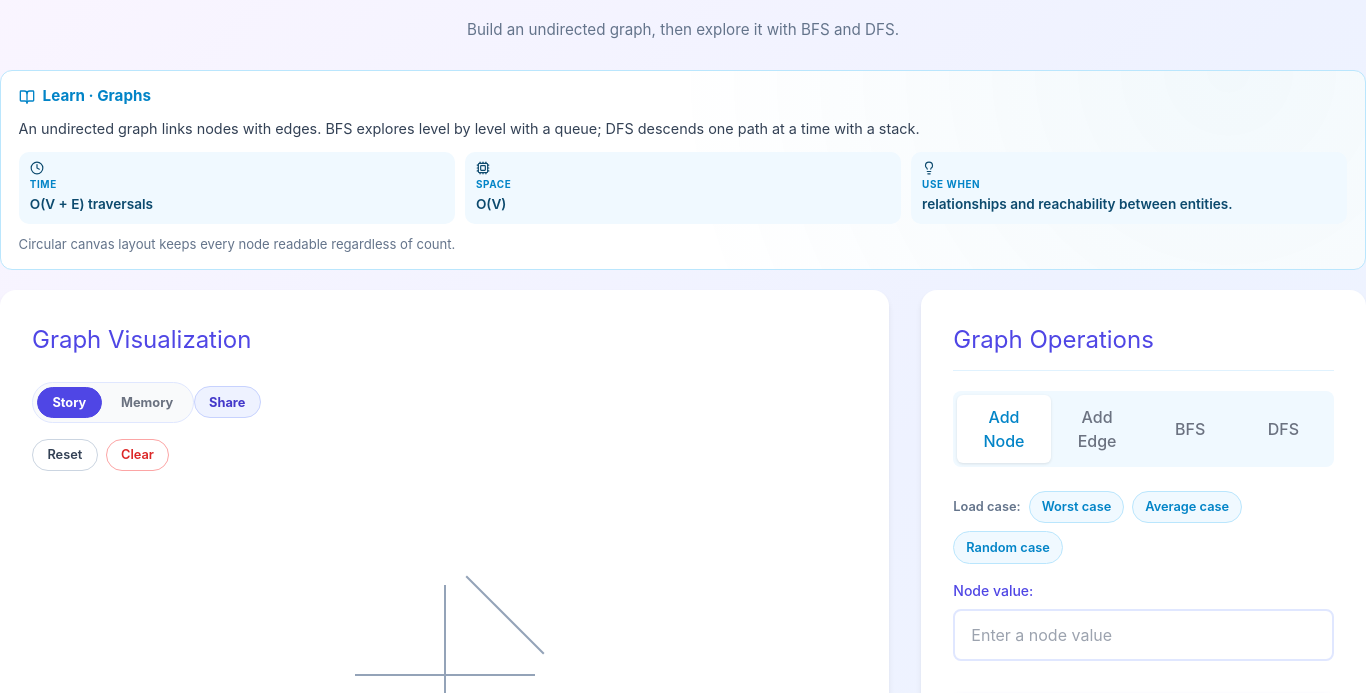
it: graph operations › adding a node records the run and places the node
In the number field with placeholder "Enter a node value": {"x": 1144, "y": 635} [953,609,1334,661], type "5"
(page scrolled)
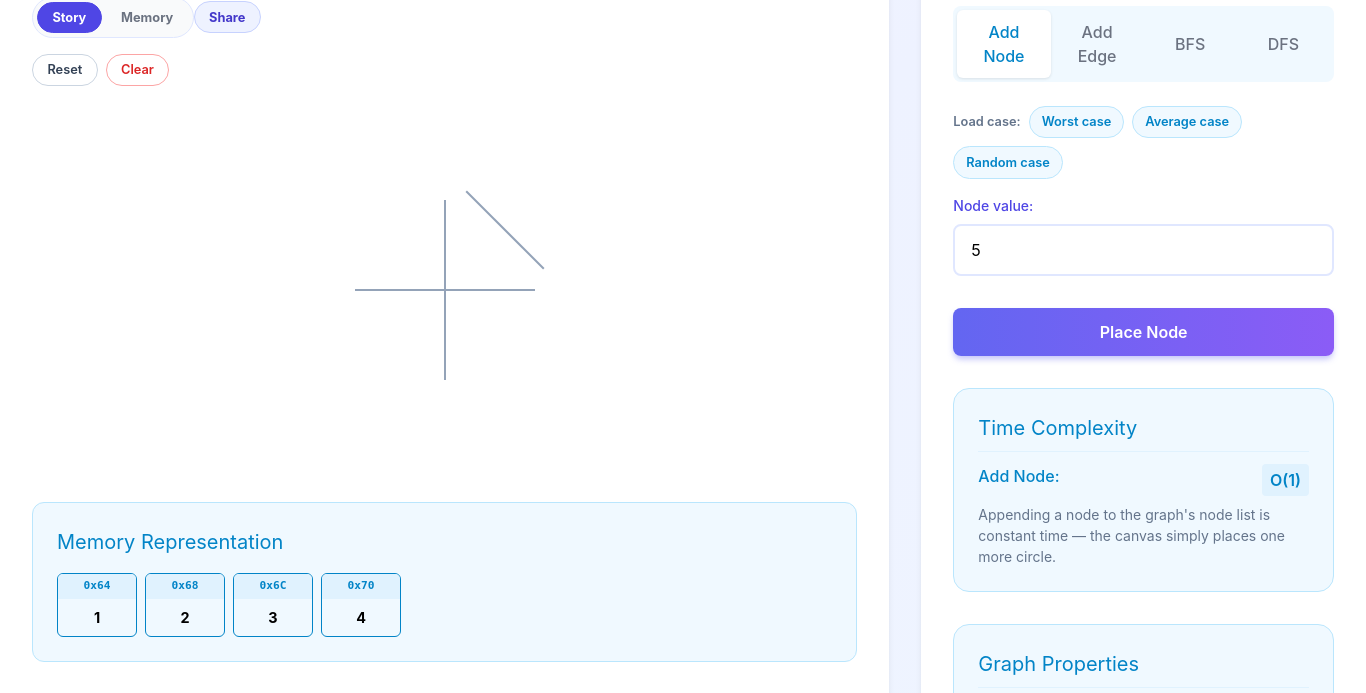
Click the button "Place Node": {"x": 1144, "y": 332} [953,308,1334,356]
Wait 30000 ms
(page scrolled)
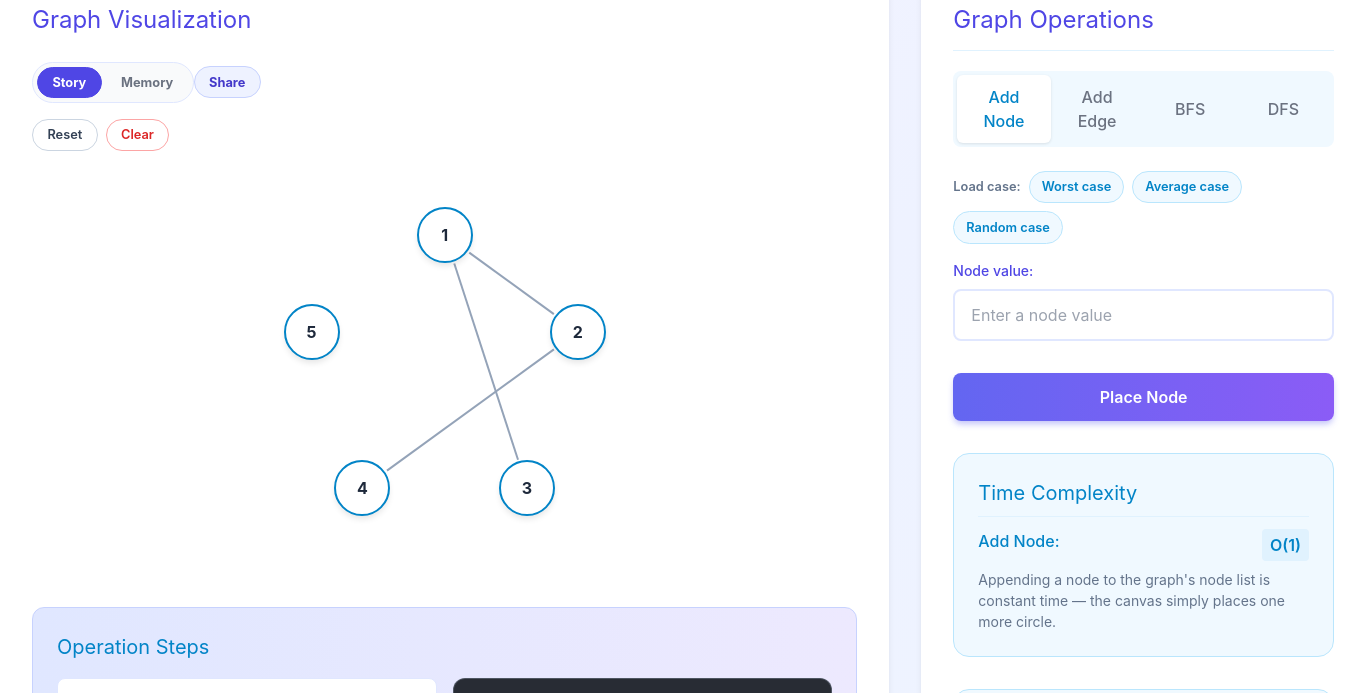
Expected: the text "5" is shown, [306,320,316,344]
